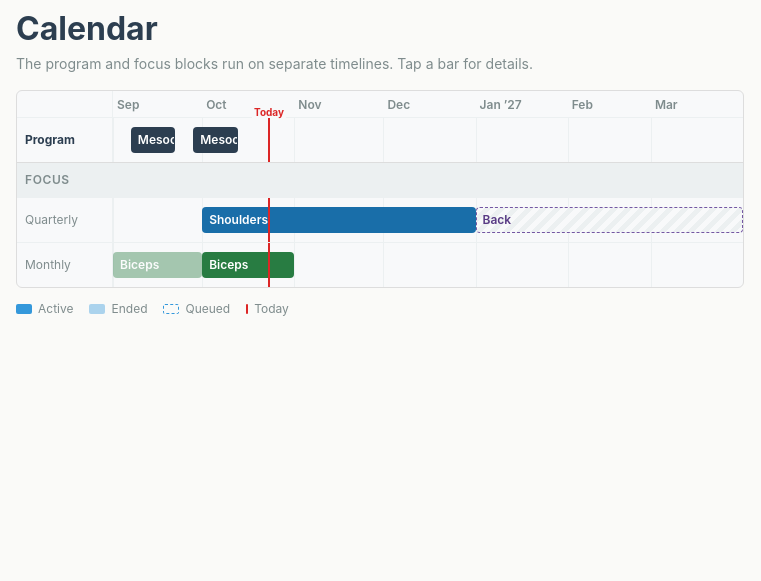
Test: FocusCalendar › shows an ended focus block’s summary
What coordinates should you click on to do the following:
click the button with aria-label "Biceps focus block, September 2026"
I would click on:
 (158, 265)
Its box is [113,252,202,278].
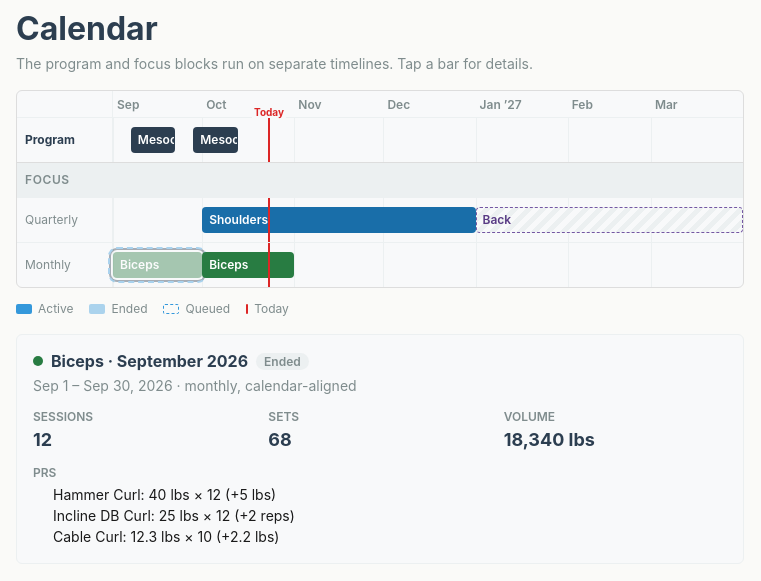
Expected: the text "18,340 lbs" is shown, [504,429,595,450]
Expected: the list item "Hammer Curl: 40 lbs × 12 (+5 lbs)" is shown, [53,486,276,503]
Expected: the list item "Incline DB Curl: 25 lbs × 12 (+2 reps)" is shown, [53,507,295,524]
